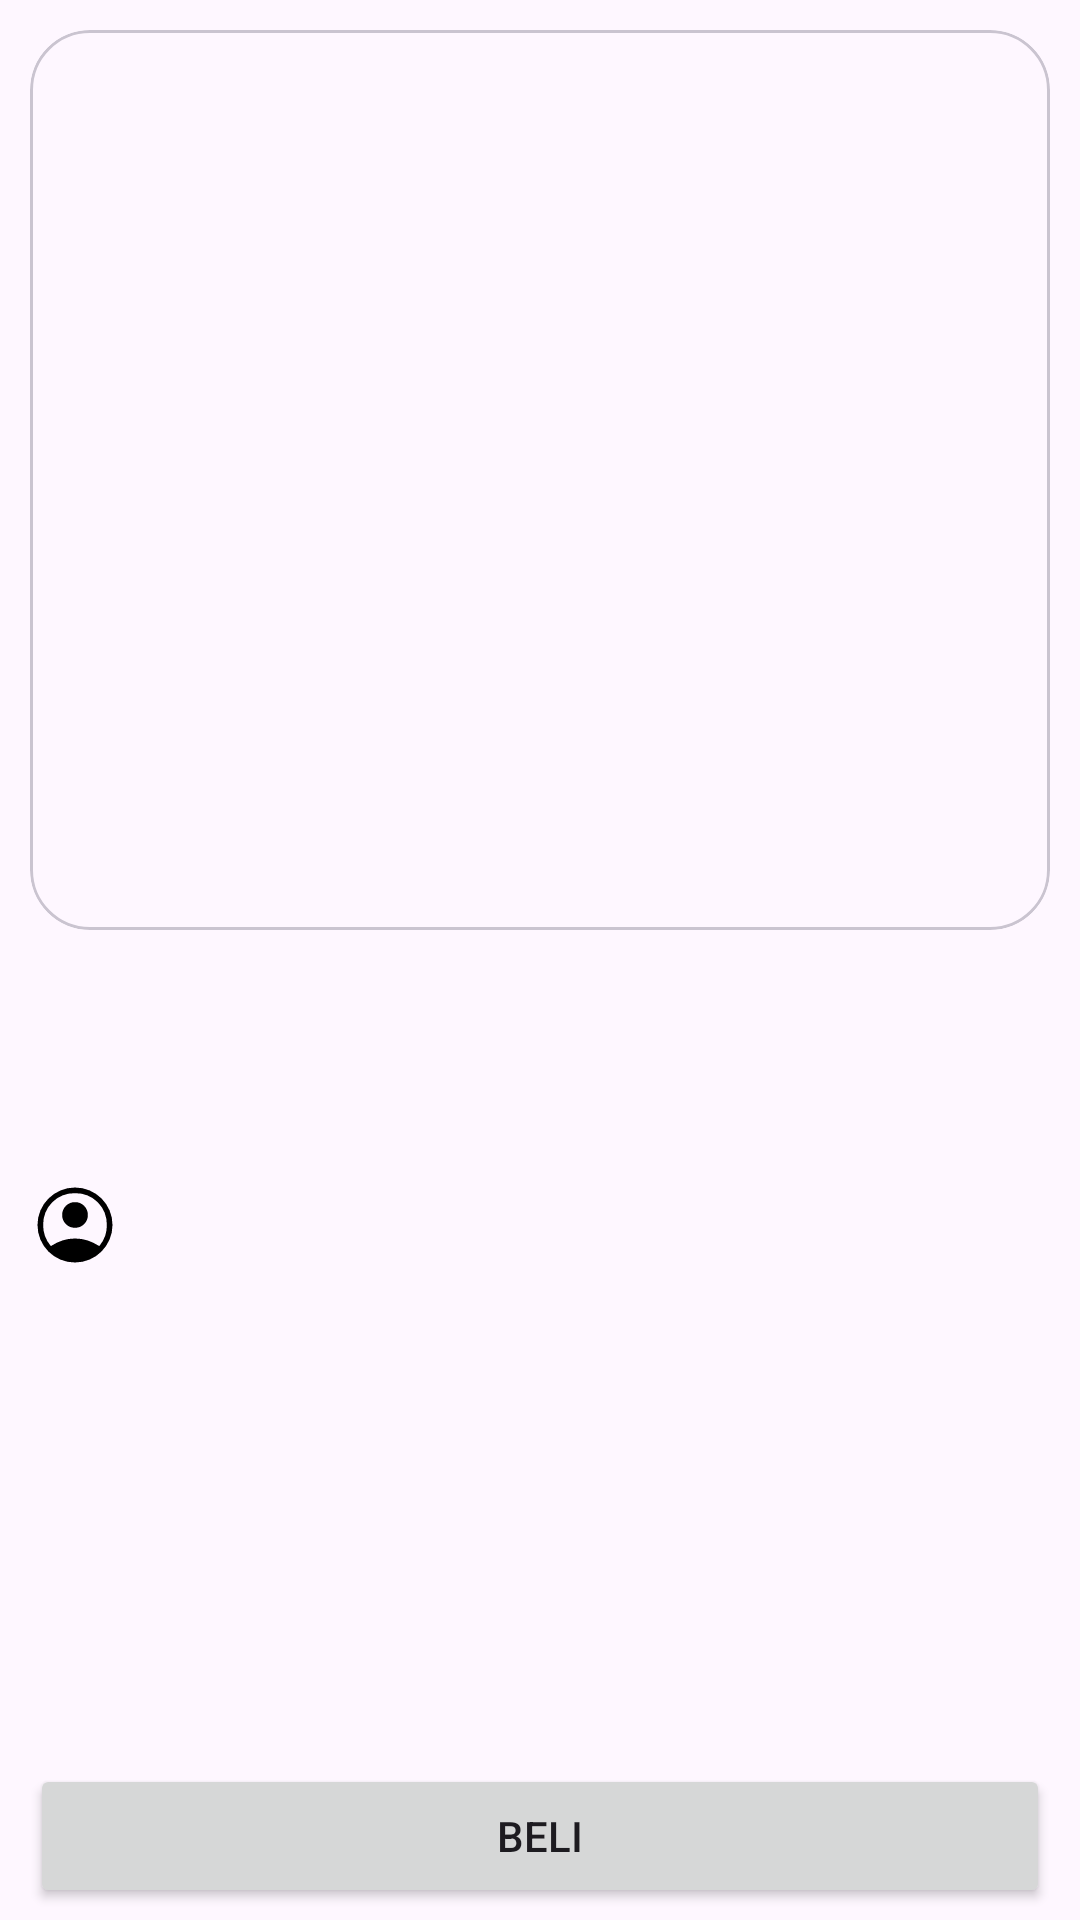

Named icons in this screenshot (1080 x 1920) and their bounding boxes, bbox(x1, y1, x2, y2):
account: bbox(37, 1187, 113, 1263)
